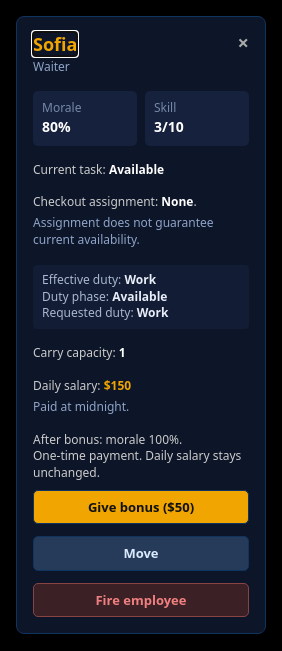
Scenario: StaffDetailsPanel › buys one real bonus, caps morale and rejects a repeat at full morale
The image size is (282, 651).
Step 1. Click the button "Give bonus ($50)" → [141, 507], box top-left (33, 490), bottom-right (249, 524)
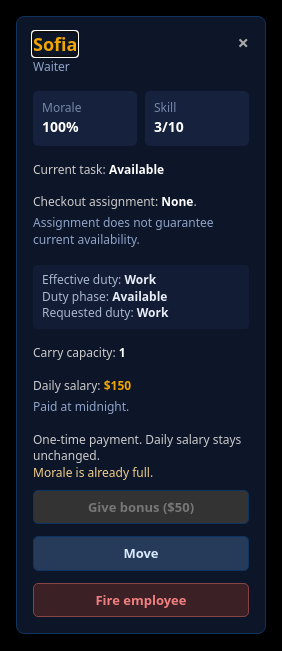
Now the button "Give bonus ($50)" is disabled, box top-left (33, 490), bottom-right (249, 524)
Now the text "Morale is already full." is shown, box top-left (33, 464), bottom-right (153, 481)
Now the text "After bonus" is gone
